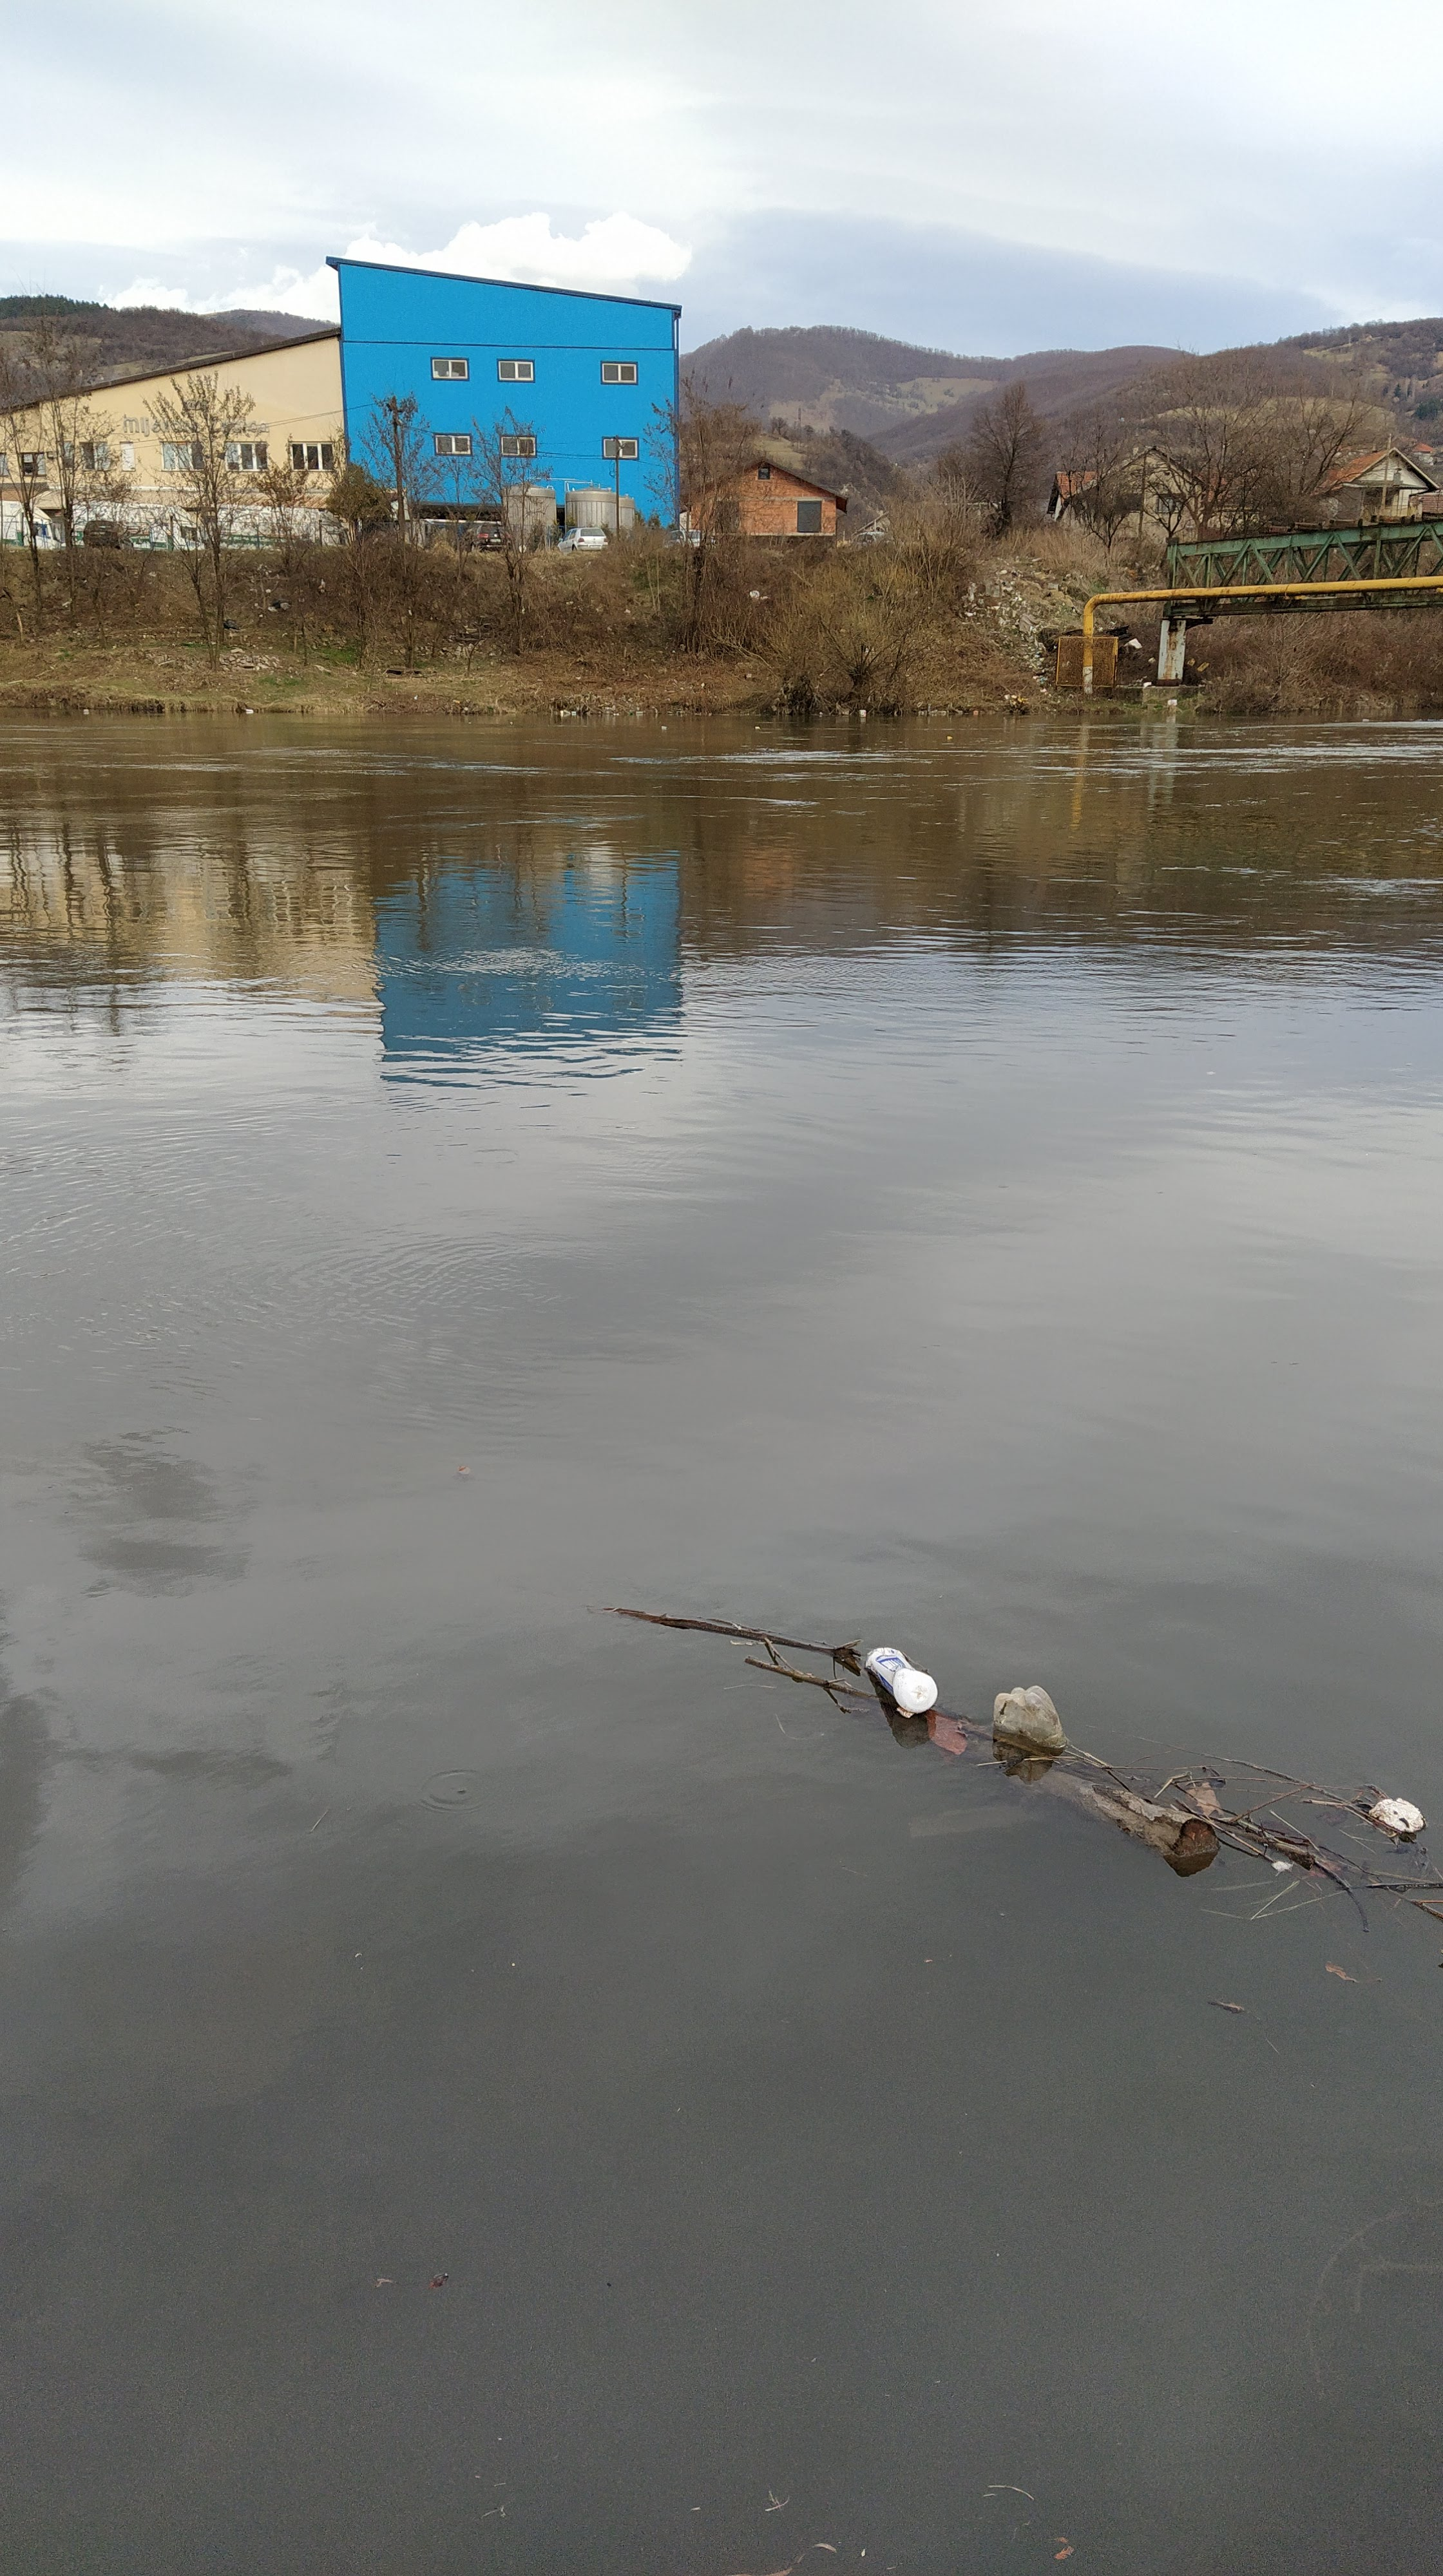Plastic Bottle: (866, 1645, 937, 1711), (993, 1686, 1068, 1748), (246, 709, 253, 713), (83, 708, 89, 711), (1363, 718, 1367, 722)
